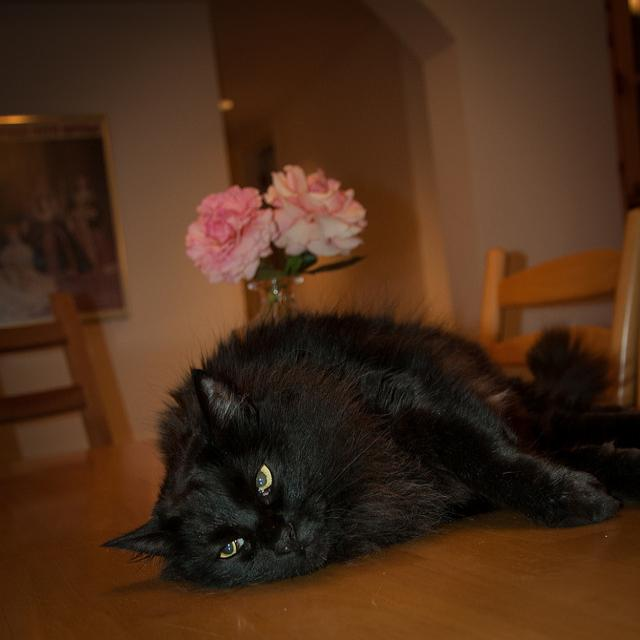chair: (479, 208, 637, 402), (0, 292, 114, 467)
dining table: (0, 432, 640, 637)
